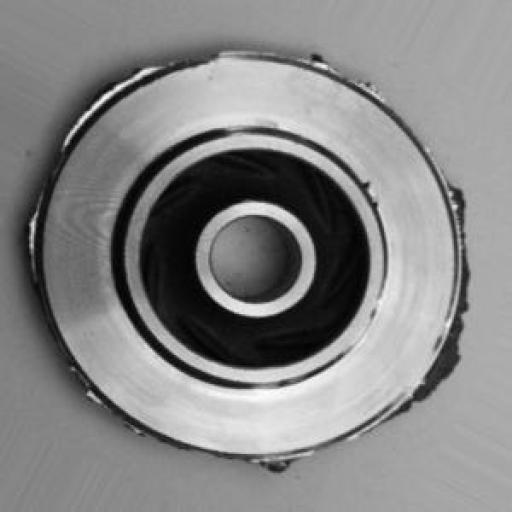defect: (33, 29, 490, 469)
